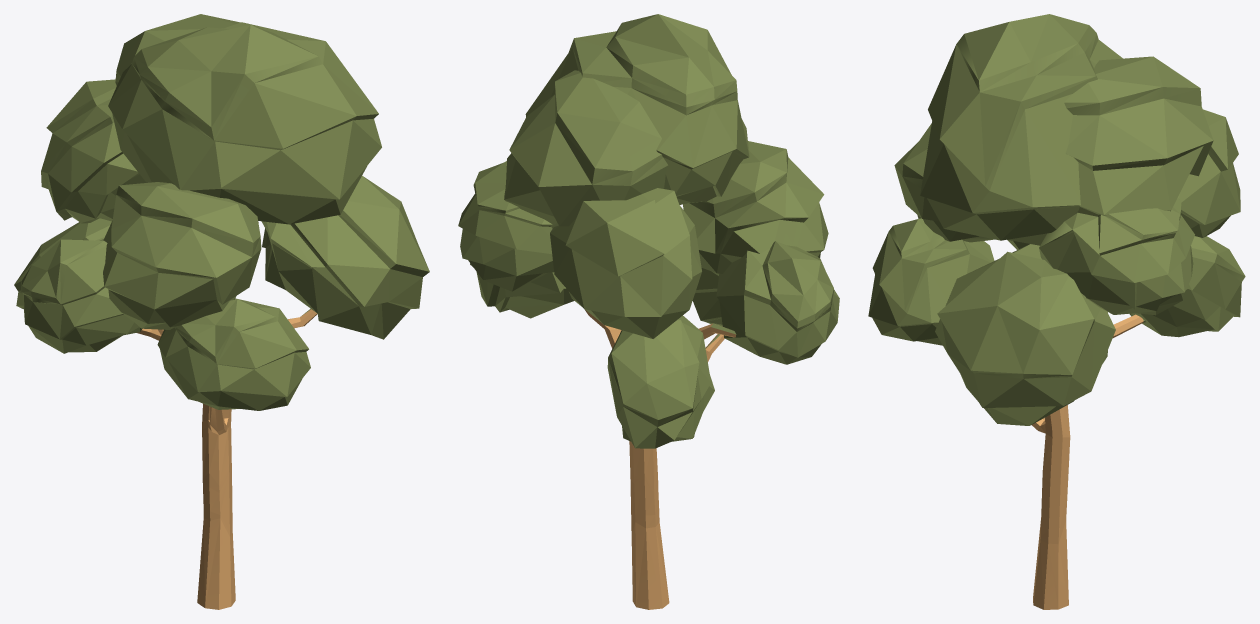
File: Puno.fbx
The picture shows the model from 3 angles, left to right: view 1: azimuth 30°, elevation 25°; view 2: azimuth 150°, elevation 25°; view 3: azimuth 270°, elevation 25°; orthographic projection. The views are drawn at different scales.
Parts seen in each view (by area): view 1: PP_Birch_Tree_06; view 2: PP_Birch_Tree_06; view 3: PP_Birch_Tree_06.
Boxes of the visible parts, x1,y1,x2,y2 form: PP_Birch_Tree_06: (14, 14, 429, 609); PP_Birch_Tree_06: (458, 14, 839, 609); PP_Birch_Tree_06: (868, 14, 1245, 609).
Bounding box in the file's own units: 244 × 367 × 214.
